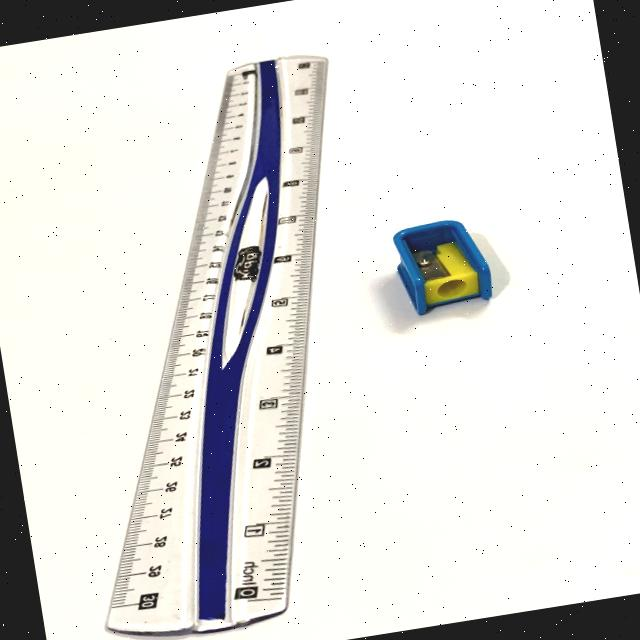Scale: (86, 34, 354, 640)
Sharpner: (370, 200, 514, 331)
